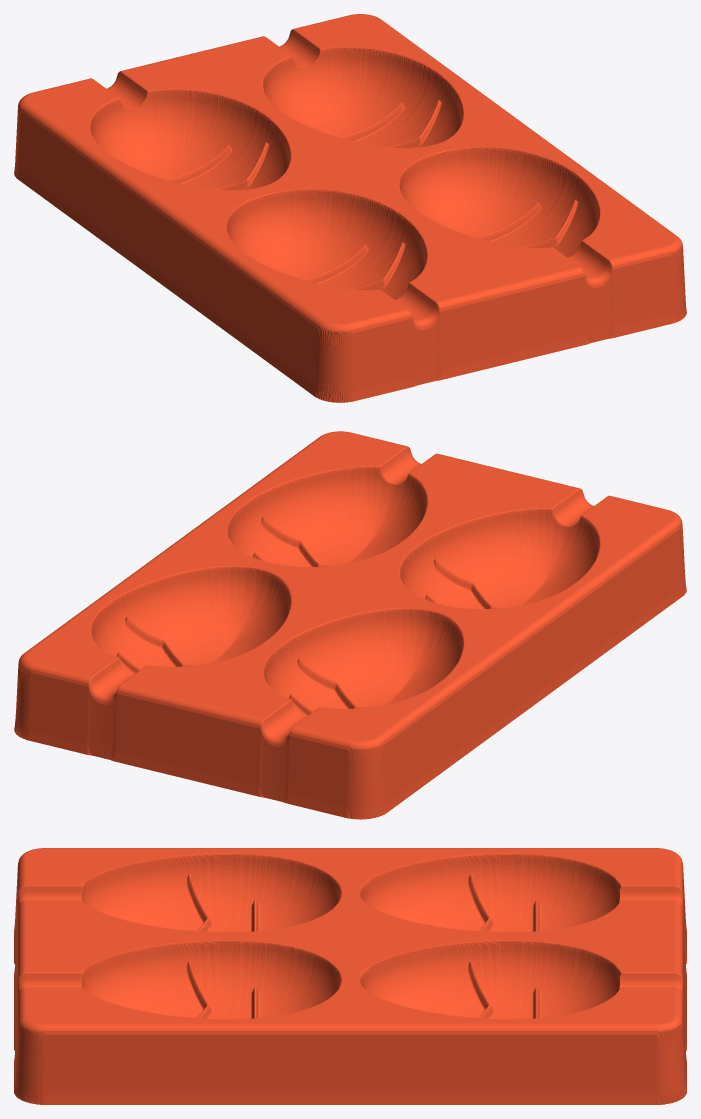
The model's file is mold.glb.
3 views of the same model, one above another, from view 1: azimuth 30°, elevation 25°; view 2: azimuth 150°, elevation 25°; view 3: azimuth 270°, elevation 25° (orthographic). The views are drawn at different scales.
Visible parts, largest first — view 1: geometry_0; view 2: geometry_0; view 3: geometry_0.
Part boxes in pixels (bbox=[...]): geometry_0: bbox=[14, 14, 686, 402]; geometry_0: bbox=[14, 431, 686, 819]; geometry_0: bbox=[14, 848, 686, 1104].
Bounding box in the file's own units: 0.1283 × 0.0245 × 0.1968.
